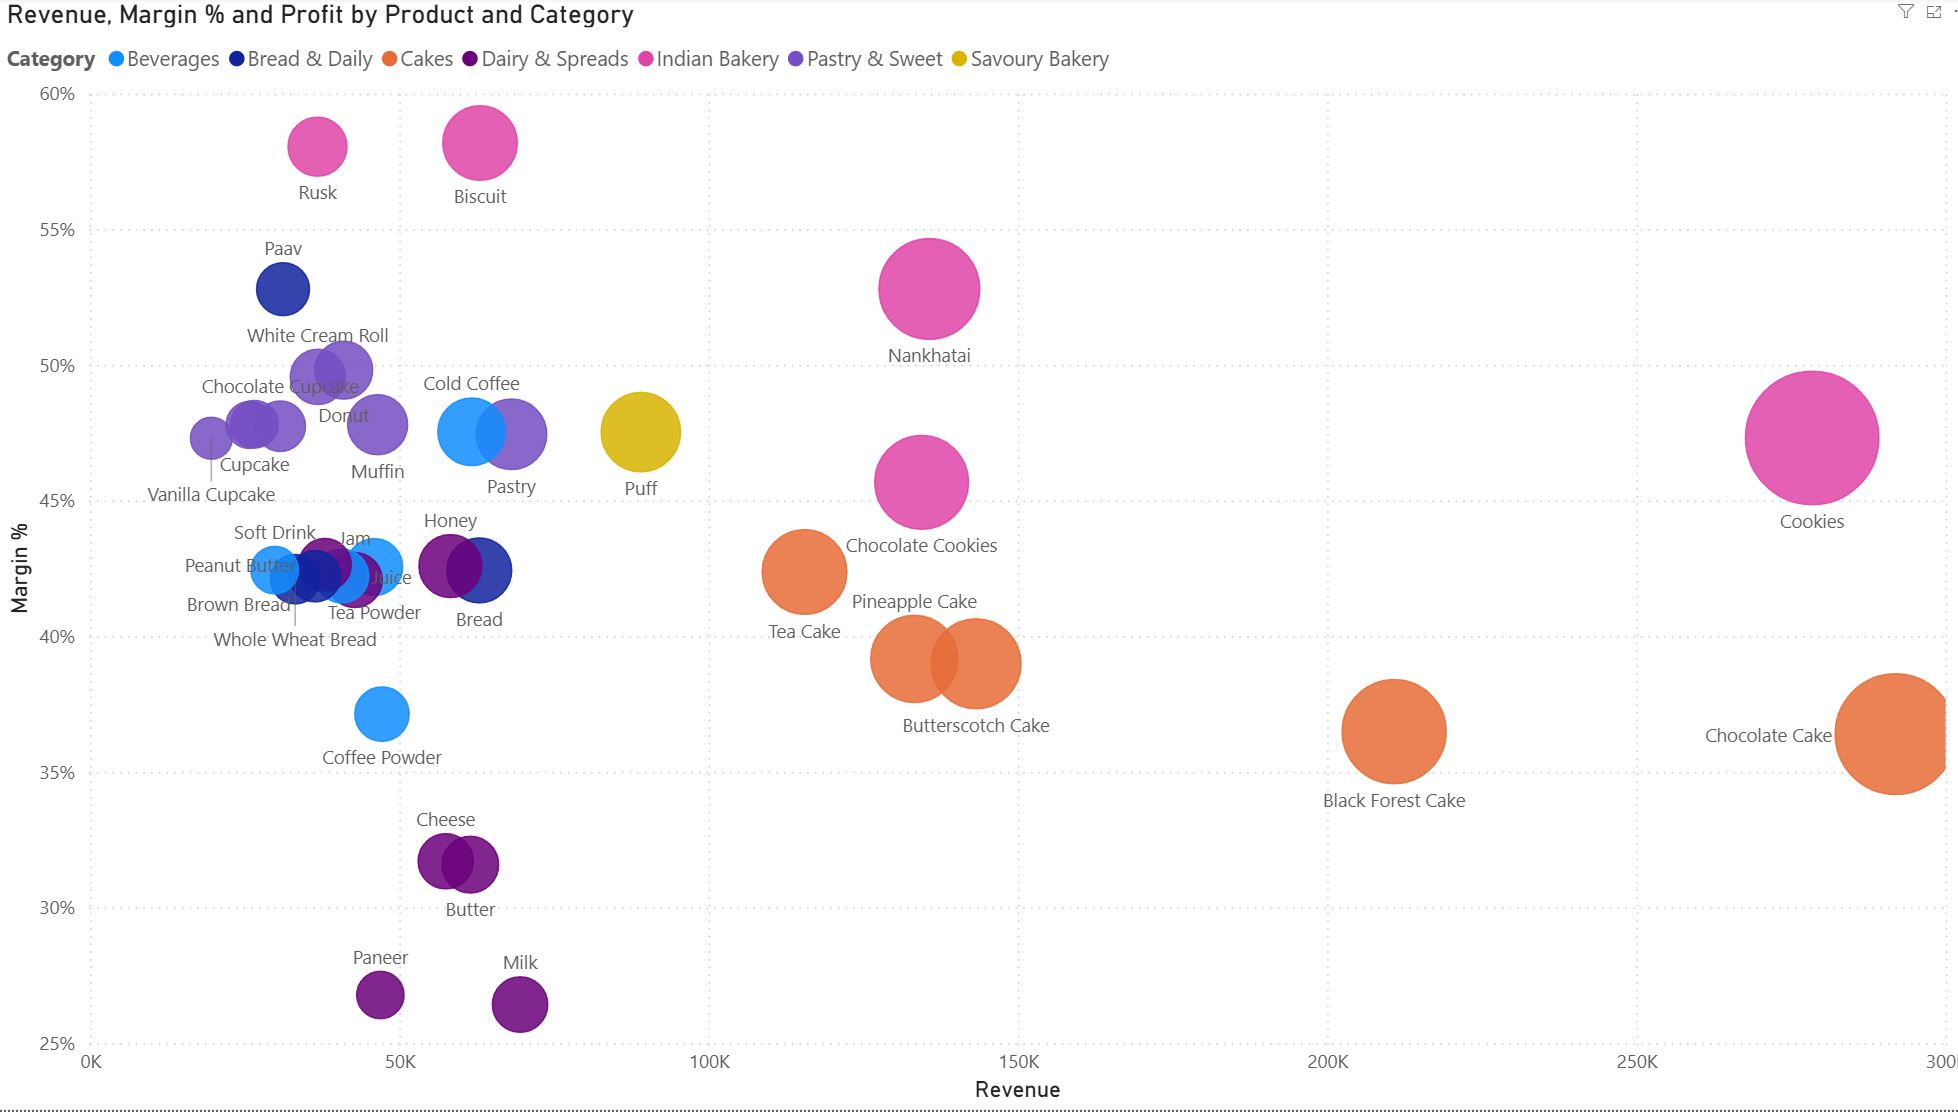

The page's visual inventory and layout, read from the dashboard file:
{"tool":"powerbi","page":{"name":"Products & Profit","canvas":[1280,720],"ordinal":1},"visuals":[{"type":"scatterChart","fields":{"Category":["FactSales.Product"],"X":["DimDate.Revenue"],"Y":["DimDate.Margin %"],"Series":["FactSales.Category"],"Size":["DimDate.Profit"]},"box":[0,0,1280,720.3],"z":0}]}

Visuals, with their boxes in screenshot pixels (x1, y1, x2, y2), scaled from the page's 1280x720 canvas onto the 1958x1114 screenshot:
scatterChart - FactSales.Product x DimDate.Revenue: pyautogui.locateOnScreen(0, 0, 1957, 1113)
